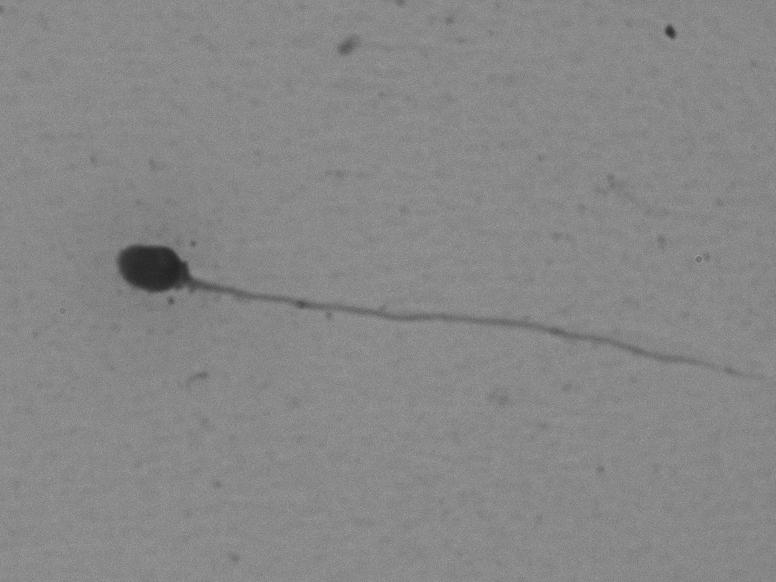Abnormal: (91, 230, 766, 386)
